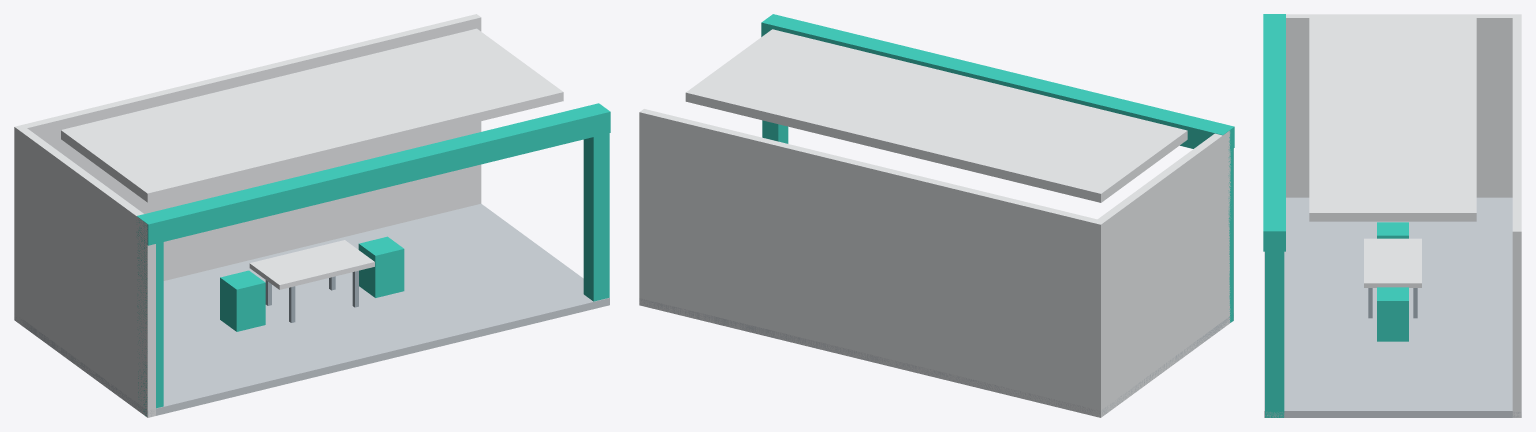
The picture shows the model from 3 angles, left to right: view 1: azimuth 30°, elevation 25°; view 2: azimuth 150°, elevation 25°; view 3: azimuth 270°, elevation 25°; orthographic projection. The views are drawn at different scales.
Parts seen in each view (by area): view 1: Exhibition Booth Concept; view 2: Exhibition Booth Concept; view 3: Exhibition Booth Concept.
Boxes of the visible parts, x1=… form: Exhibition Booth Concept: x1=14, y1=14, x2=610, y2=417; Exhibition Booth Concept: x1=639, y1=14, x2=1234, y2=417; Exhibition Booth Concept: x1=1263, y1=14, x2=1521, y2=417.
Size of the model in its own units: 8 by 3.34 by 4.02.
